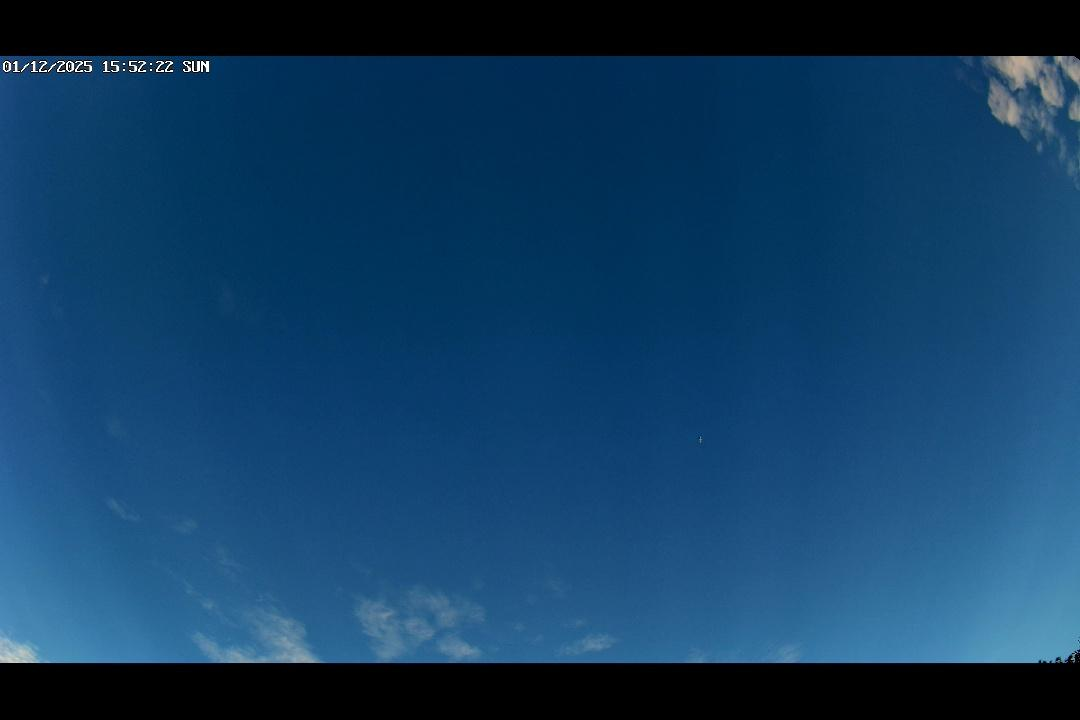Plane: (692, 431, 712, 446)
